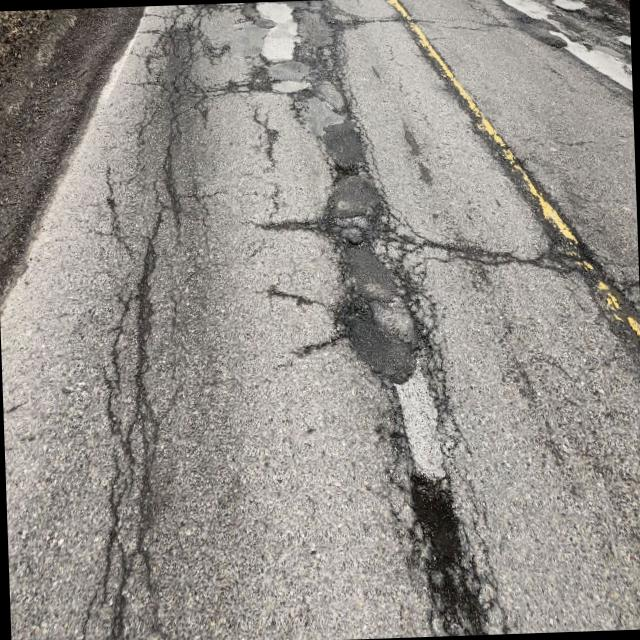Potholes: (377, 427, 488, 638), (240, 0, 306, 80)
